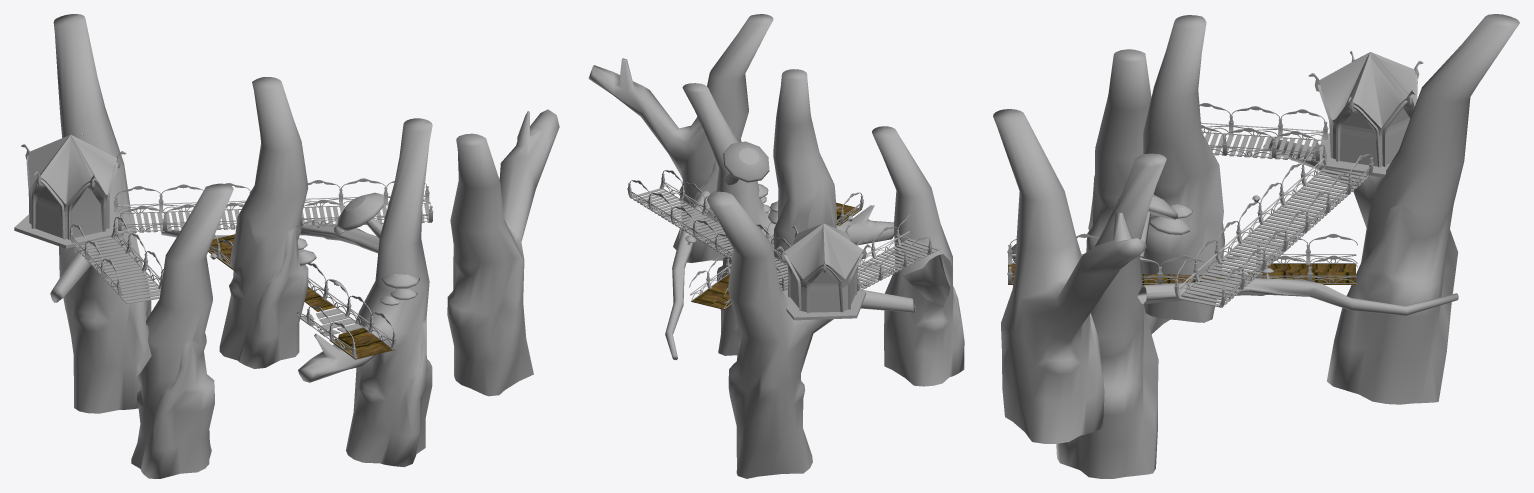
The model's file is fairyland_straight_broken.fbx.
3 views of the same model, side by side, from view 1: azimuth 30°, elevation 25°; view 2: azimuth 150°, elevation 25°; view 3: azimuth 270°, elevation 25° (orthographic). The views are drawn at different scales.
Parts seen in each view (by area): view 1: pCylinder27, pCylinder7, pCylinder73, pCylinder22, pCylinder74, polySurface247, pCube2, pCylinder16, pCylinder25; view 2: pCylinder73, pCylinder74, pCylinder27, pCylinder22, polySurface247, pCylinder7, pCylinder25, pCylinder16, pCube2; view 3: pCylinder73, pCylinder27, pCylinder7, pCylinder22, polySurface247, pCylinder74, pCylinder25, pCube2, pCylinder16, pCylinder38.
Part boxes in pixels (bbox=[...]): pCylinder27: bbox=[447, 109, 559, 396]; pCylinder7: bbox=[298, 118, 432, 467]; pCylinder73: bbox=[50, 14, 151, 413]; pCylinder22: bbox=[219, 77, 308, 368]; pCylinder74: bbox=[131, 183, 233, 478]; polySurface247: bbox=[14, 133, 126, 248]; pCube2: bbox=[208, 234, 394, 359]; pCylinder16: bbox=[337, 192, 385, 238]; pCylinder25: bbox=[161, 221, 379, 253]; pCylinder73: bbox=[707, 191, 915, 478]; pCylinder74: bbox=[872, 126, 964, 386]; pCylinder27: bbox=[588, 14, 773, 262]; pCylinder22: bbox=[773, 69, 836, 290]; polySurface247: bbox=[776, 223, 871, 320]; pCylinder7: bbox=[682, 83, 894, 355]; pCylinder25: bbox=[665, 191, 710, 360]; pCylinder16: bbox=[723, 141, 769, 185]; pCube2: bbox=[691, 202, 861, 309]; pCylinder73: bbox=[1263, 14, 1519, 404]; pCylinder27: bbox=[993, 109, 1146, 443]; pCylinder7: bbox=[1011, 153, 1166, 478]; pCylinder22: bbox=[1140, 15, 1224, 322]; polySurface247: bbox=[1308, 51, 1423, 177]; pCylinder74: bbox=[1086, 49, 1169, 334]; pCylinder25: bbox=[1137, 278, 1458, 315]; pCube2: bbox=[1008, 264, 1355, 284]; pCylinder16: bbox=[1118, 194, 1177, 257]; pCylinder38: bbox=[1149, 216, 1189, 234].
Size of the model in its own units: 5837 by 4693 by 5510.
